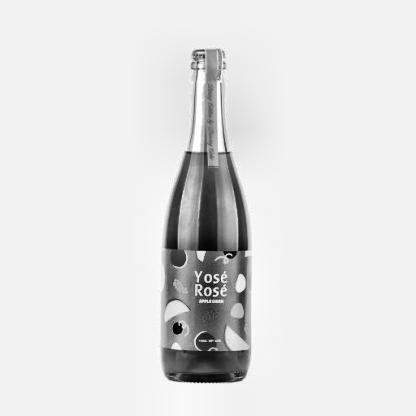yoserose: (161, 246, 253, 354)
